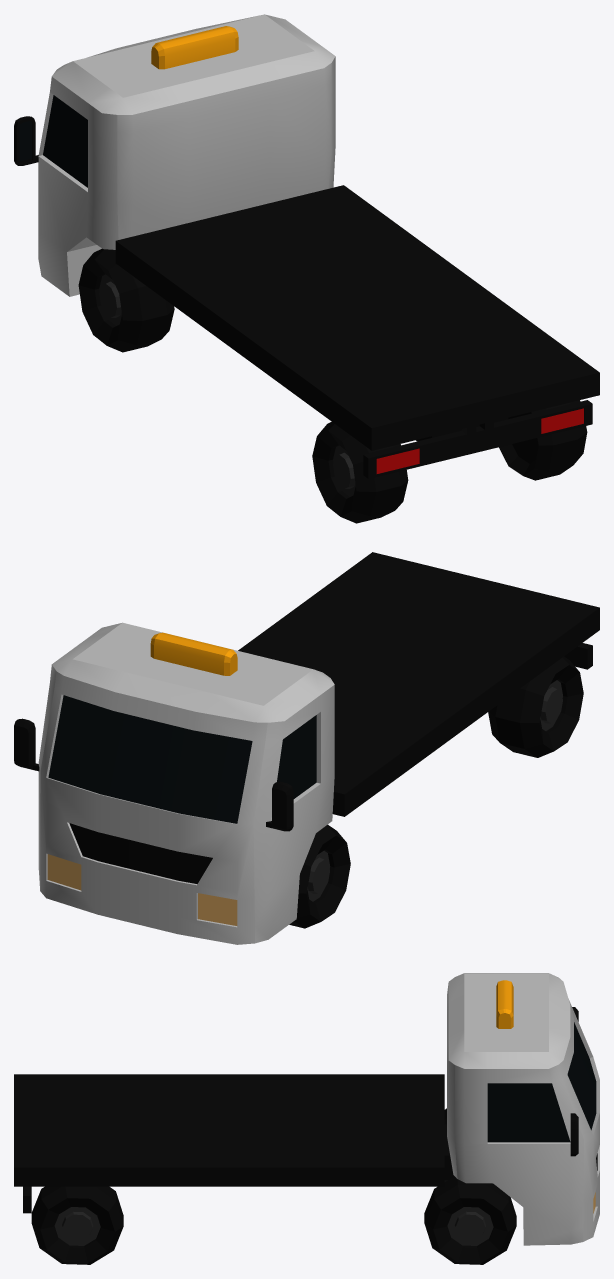
The model's file is Furgon.fbx.
The picture shows the model from 3 angles, top to bottom: view 1: azimuth 30°, elevation 25°; view 2: azimuth 150°, elevation 25°; view 3: azimuth 270°, elevation 25°; orthographic projection. The views are drawn at different scales.
Parts seen in each view (by area): view 1: Platform, Cabine, Wheel002, Wheel003, Wheel001, Indicator; view 2: Cabine, Platform, Wheel003, Wheel002, Indicator; view 3: Platform, Cabine, Wheel, Wheel001, Indicator.
Boxes of the visible parts, left/top/right/bottom form: Platform: left=115, top=185, right=599, bottom=478; Cabine: left=14, top=14, right=335, bottom=296; Wheel002: left=78, top=248, right=174, bottom=352; Wheel003: left=312, top=421, right=408, bottom=523; Wheel001: left=499, top=400, right=587, bottom=480; Indicator: left=151, top=26, right=238, bottom=69; Cabine: left=14, top=622, right=334, bottom=944; Platform: left=238, top=552, right=599, bottom=816; Wheel003: left=488, top=656, right=583, bottom=757; Wheel002: left=289, top=824, right=350, bottom=928; Indicator: left=150, top=632, right=237, bottom=675; Platform: left=14, top=1074, right=454, bottom=1213; Cabine: left=447, top=973, right=599, bottom=1245; Wheel: left=424, top=1176, right=516, bottom=1264; Wheel001: left=31, top=1186, right=123, bottom=1264; Indicator: left=496, top=980, right=513, bottom=1028.
Size of the model in its own units: 173 by 161 by 375.
